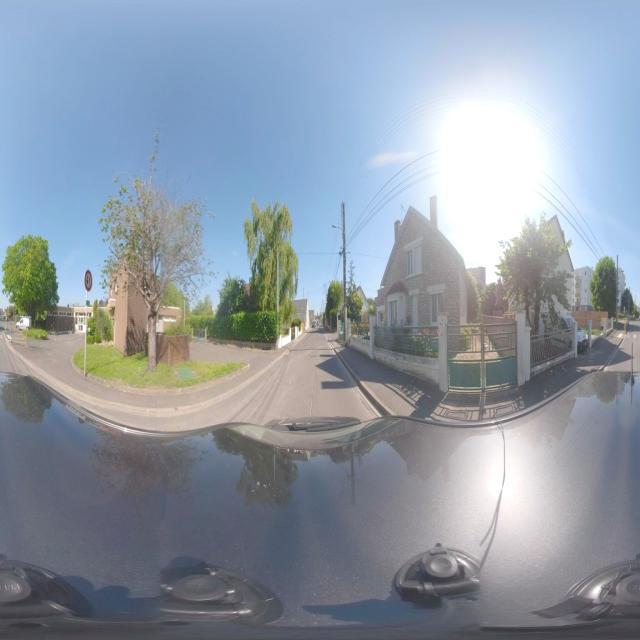car: (15, 315, 33, 331), (312, 321, 316, 328)
